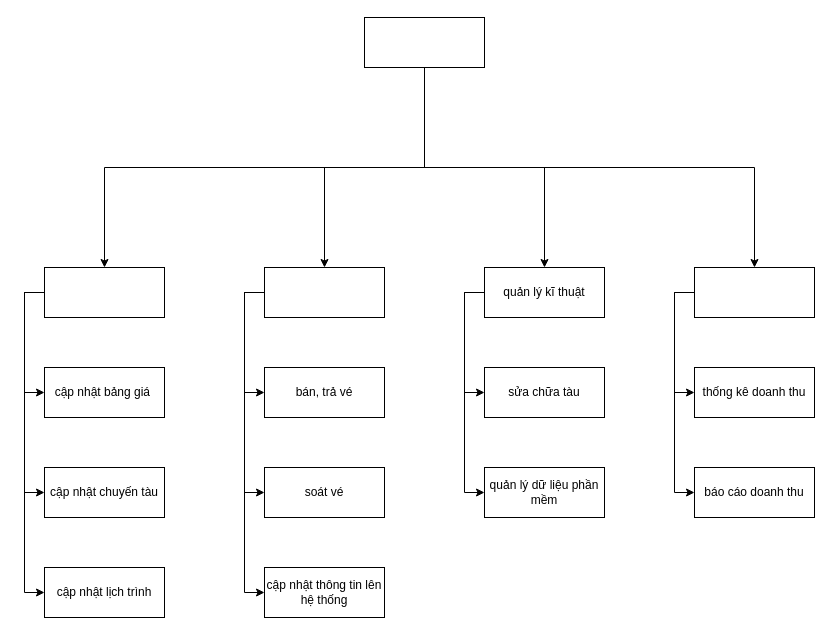
This 832x635 diagram has some shape labels left out. The shapes that lost their labels are listed below. From the top down, each one's centre as x and y in pixels, then its label:
the point at 424,42: Hệ thống quản lý ga tàu
the point at 104,292: quản lý hoạt động
the point at 324,292: quản lý đội vé
the point at 754,292: quản lý tài chính
